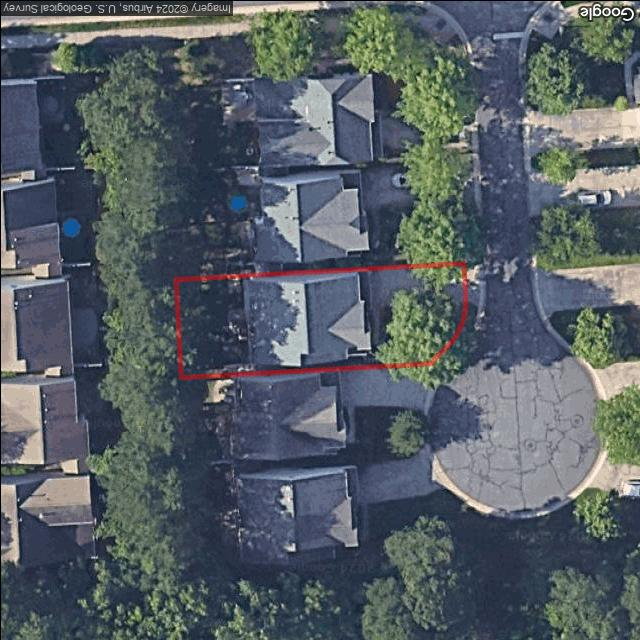Driveway: (359, 267, 465, 302)
Extra-Driveway: (463, 268, 479, 304)
Extra-Lawn: (426, 302, 477, 362), (461, 261, 481, 268)
House: (242, 271, 373, 366)
Lawn: (175, 263, 465, 377)
Sidewalk: (366, 301, 389, 344)
